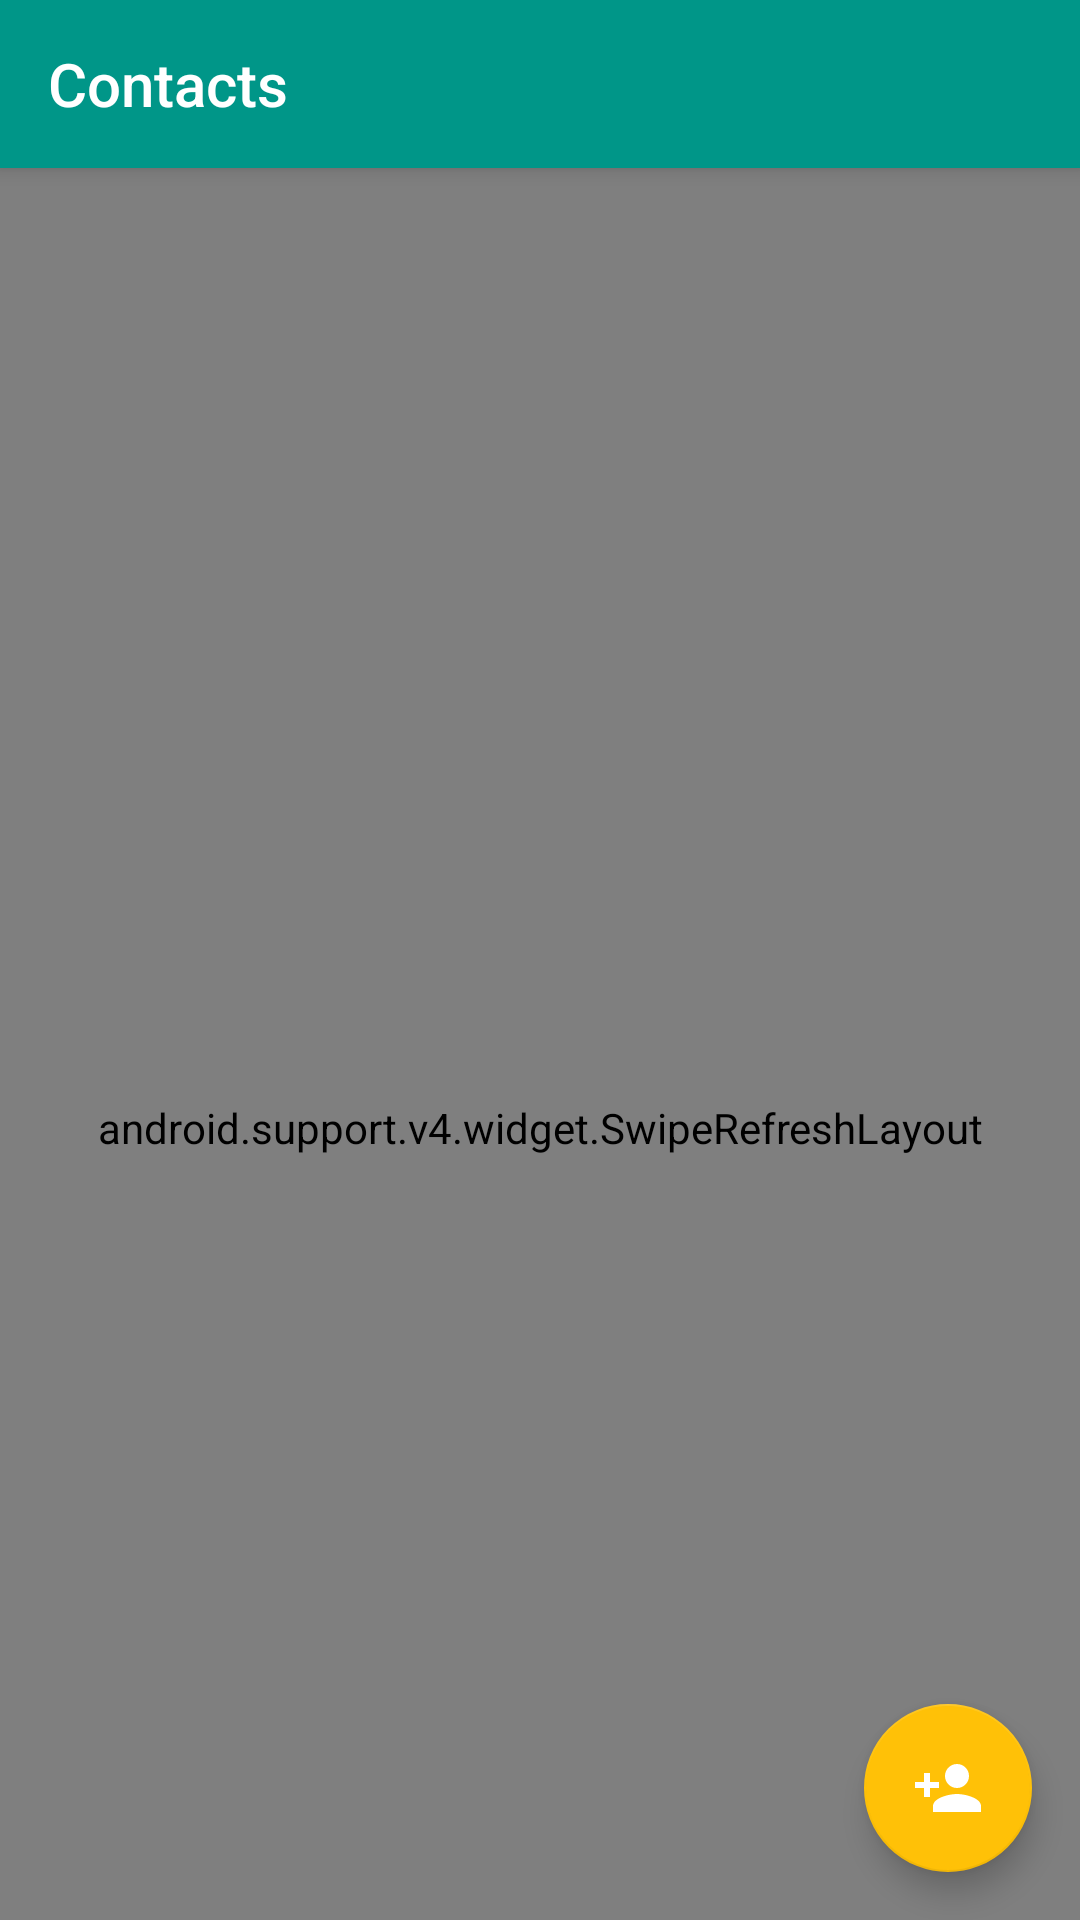

Named icons in this screenshot (1080 × 1920) and their bounding boxes, detection(x1, y1, x2, y2):
add contact: detection(864, 1704, 1032, 1872)
